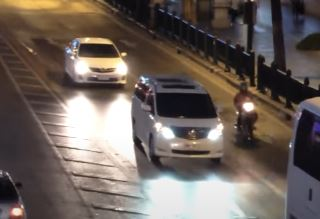Car: (130, 75, 225, 163), (63, 36, 127, 85)
Motorcycle: (232, 81, 258, 145)
